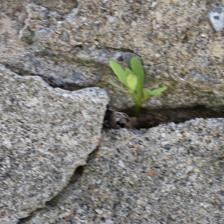Crack: (0, 103, 154, 219), (38, 98, 130, 142)
